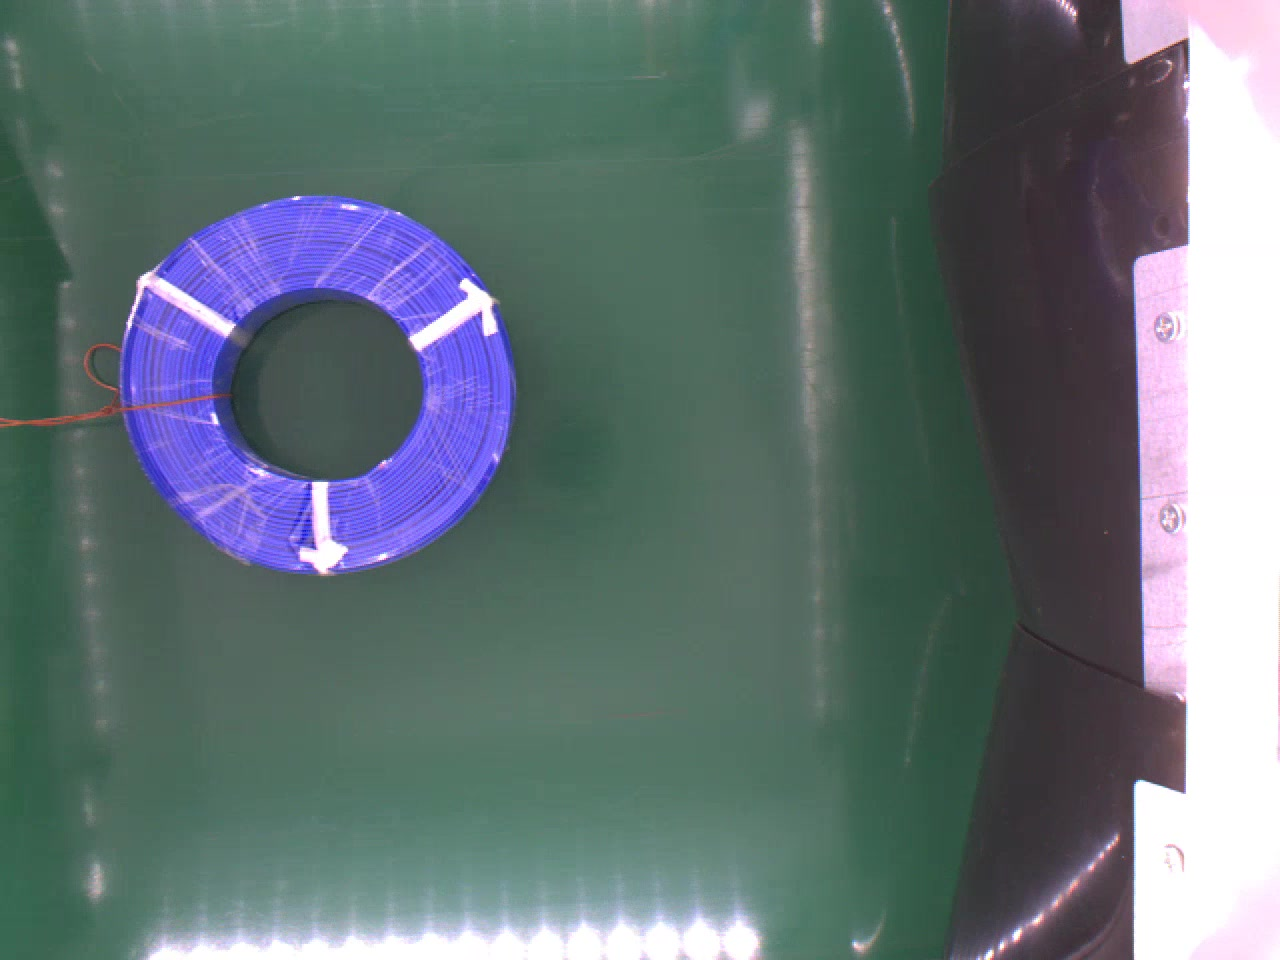blue: (120, 188, 516, 569)
